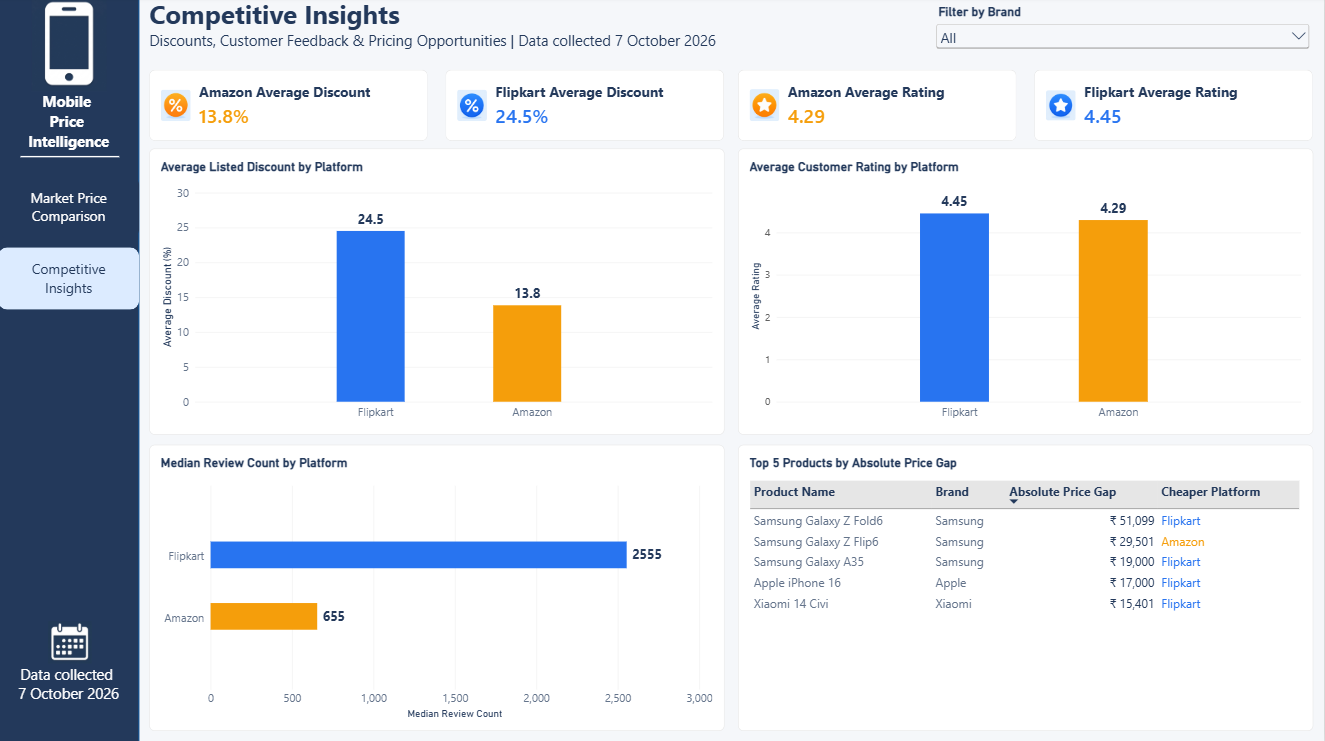

This screenshot's page, from the dashboard's own definition file:
{"tool":"powerbi","page":{"name":"Competitive Insights","canvas":[1920,1080],"ordinal":1},"visuals":[{"type":"textbox","box":[219,0,951.9,86.9],"z":0},{"type":"cardVisual","fields":{"Data":["MeasuresTable.Amazon Average Discount"]},"box":[219,106.8,403.6,103.2],"z":1000},{"type":"cardVisual","fields":{"Data":["MeasuresTable.Flipkart Average Discount"]},"box":[647.9,106.8,403.6,103.2],"z":2000},{"type":"cardVisual","fields":{"Data":["MeasuresTable.Amazon Average Rating"]},"box":[1071.3,106.8,403.6,103.2],"z":3000},{"type":"cardVisual","fields":{"Data":["MeasuresTable.Flipkart Average Rating"]},"box":[1500.2,106.8,403.6,103.2],"z":6000},{"type":"clusteredColumnChart","title":"Average Listed Discount by Platform","fields":{"Category":["DimPlatform.PlatformName"],"Y":["Avg(FactProductPlatform.DiscountPct)"]},"box":[219,220.8,832.4,414.4],"z":7000},{"type":"clusteredColumnChart","title":"Average Customer Rating by Platform","fields":{"Category":["DimPlatform.PlatformName"],"Y":["MeasuresTable.Average Rating"]},"box":[1071.3,220.8,832.4,414.4],"z":8000},{"type":"clusteredBarChart","title":"Median Review Count by Platform","fields":{"Category":["DimPlatform.PlatformName"],"Y":["MeasuresTable.Median Review Count"]},"box":[219,649.7,832.4,414.4],"z":9000},{"type":"tableEx","title":"Top 5 Products by Absolute Price Gap","fields":{"Values":["DimProduct.ProductName","DimProduct.BrandName","MeasuresTable.Absolute Price Gap","MeasuresTable.Cheaper Platform"]},"box":[1071.3,649.7,832.4,414.4],"z":10000},{"type":"slicer","fields":{"Values":["DimProduct.BrandName"]},"box":[1353.6,12.7,550.1,74.2],"z":11000},{"type":"shape","box":[0,0,204.5,1080.4],"z":11001},{"type":"image","box":[48.9,0,108.6,137.5],"z":11002},{"type":"textbox","box":[0,137.5,204.5,112.2],"z":11003},{"type":"shape","box":[32.6,209.9,143,45.2],"z":11004},{"type":"actionButton","box":[0,260.6,204.5,90.5],"z":11005},{"type":"actionButton","box":[0,363.7,204.5,90.5],"z":11006},{"type":"image","box":[45.2,904.8,117.6,61.5],"z":11007},{"type":"textbox","box":[0,966.4,204.5,65.1],"z":11008}]}

Visuals, with their boxes on the page's 1920x1080 design canvas (x1, y1, x2, y2). These are canvas units, not pixel positions in the 1325x741 screenshot, which may show the page scaled, cropped or inside an application window:
textbox: [219,0,1171,87]
cardVisual - MeasuresTable.Amazon Average Discount: [219,107,623,210]
cardVisual - MeasuresTable.Flipkart Average Discount: [648,107,1052,210]
cardVisual - MeasuresTable.Amazon Average Rating: [1071,107,1475,210]
cardVisual - MeasuresTable.Flipkart Average Rating: [1500,107,1904,210]
"Average Listed Discount by Platform" clusteredColumnChart: [219,221,1051,635]
"Average Customer Rating by Platform" clusteredColumnChart: [1071,221,1904,635]
"Median Review Count by Platform" clusteredBarChart: [219,650,1051,1064]
"Top 5 Products by Absolute Price Gap" tableEx: [1071,650,1904,1064]
slicer - DimProduct.BrandName: [1354,13,1904,87]
shape: [0,0,204,1080]
image: [49,0,158,138]
textbox: [0,138,204,250]
shape: [33,210,176,255]
actionButton: [0,261,204,351]
actionButton: [0,364,204,454]
image: [45,905,163,966]
textbox: [0,966,204,1032]
